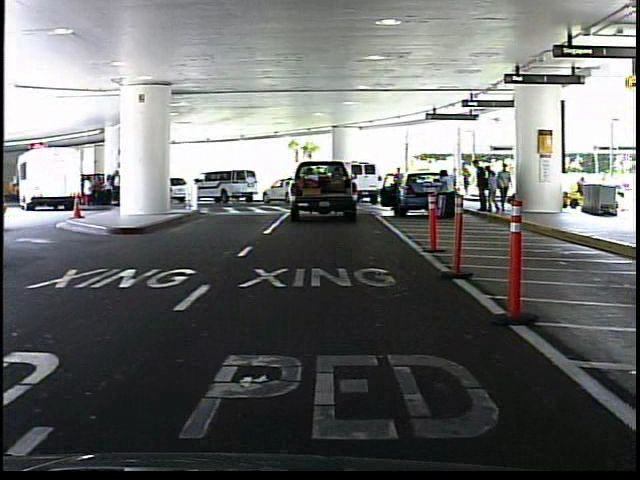person: (495, 160, 517, 217), (436, 163, 457, 215), (391, 164, 407, 204)
